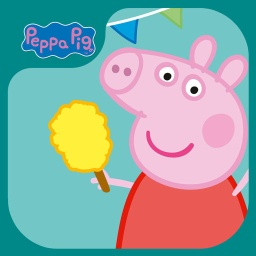Peppa: (98, 34, 256, 252)
